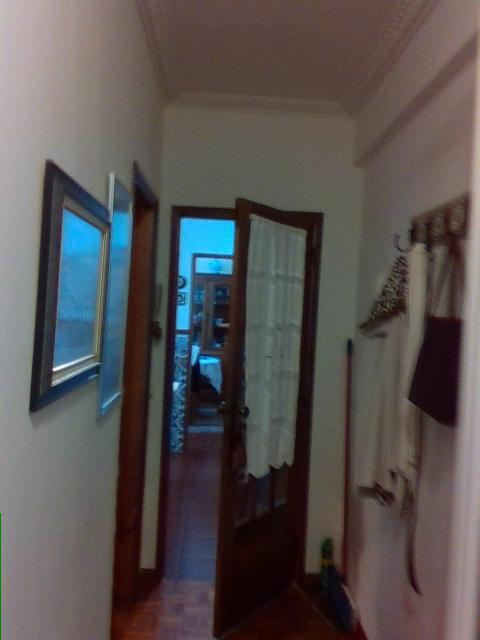semi_door: (154, 195, 323, 635)
